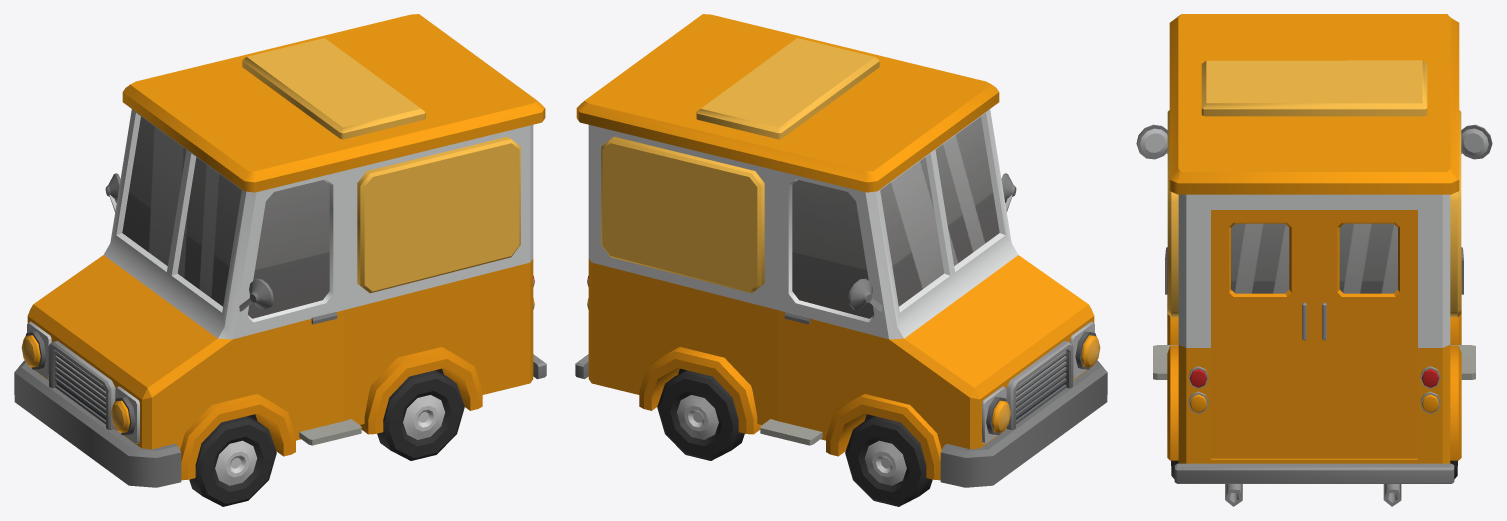
Rendered from Car_14_E.gltf.
3 renders of one model, left to right at view 1: azimuth 30°, elevation 25°; view 2: azimuth 150°, elevation 25°; view 3: azimuth 270°, elevation 25°, orthographic. The views are drawn at different scales.
Visible parts, largest first — view 1: Car_14_E, RL, FL; view 2: Car_14_E, RR, FR; view 3: Car_14_E.
Part boxes in pixels (<box>): Car_14_E: <box>14,14,546,487</box>; RL: <box>377,370,464,460</box>; FL: <box>189,416,276,506</box>; Car_14_E: <box>575,14,1107,487</box>; RR: <box>657,370,744,460</box>; FR: <box>845,416,932,506</box>; Car_14_E: <box>1136,14,1492,506</box>.
Bounding box in the file's own units: 2.75 × 2.1 × 1.8.
Materials: 4 (4 with a texture image).
